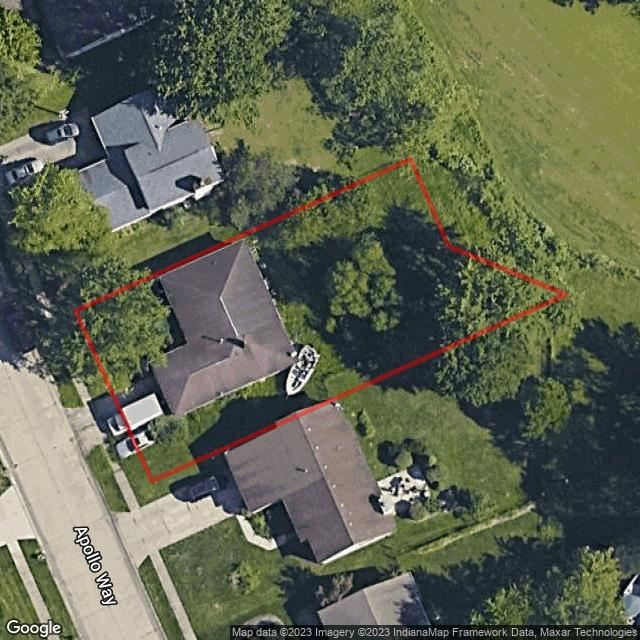Driveway: (118, 377, 166, 427)
Extra Driveway: (65, 406, 105, 454)
Extra Lawn: (86, 446, 124, 497), (121, 456, 148, 487), (58, 380, 82, 407)
Extra Sidewalk: (112, 462, 135, 491), (73, 378, 91, 406)
House: (154, 244, 295, 416)
Other: (285, 345, 320, 396)
